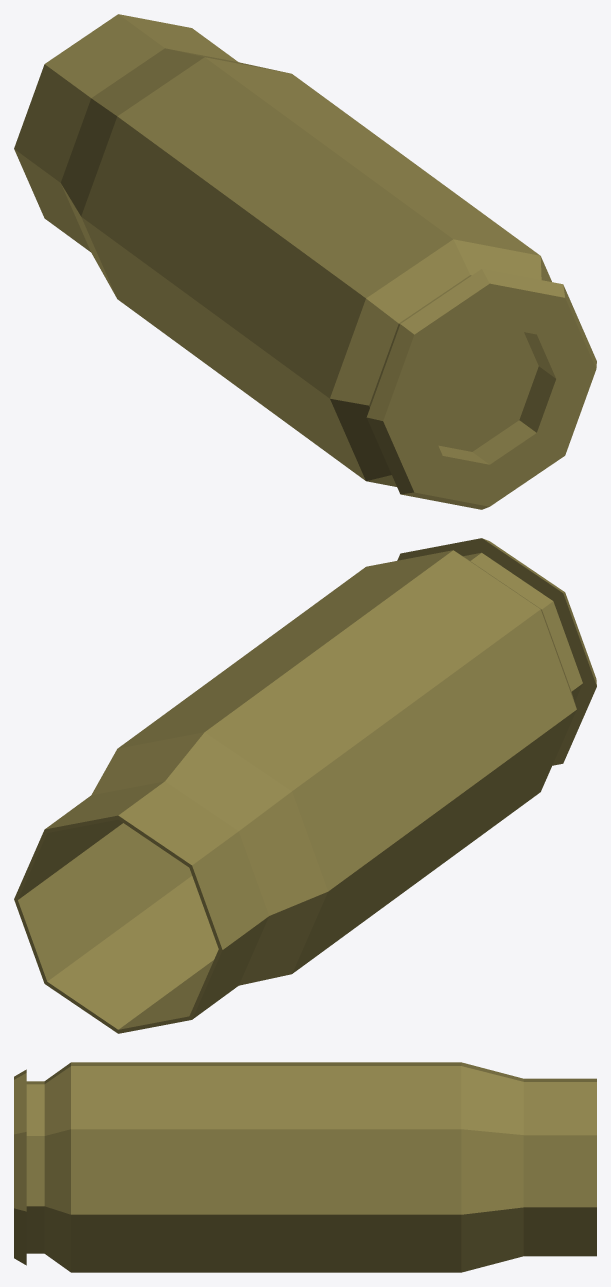
The model's file is case.glb.
3 renders of one model, top to bottom at view 1: azimuth 30°, elevation 25°; view 2: azimuth 150°, elevation 25°; view 3: azimuth 270°, elevation 25°, orthographic. The views are drawn at different scales.
Visible parts, largest first — view 1: 792x33-kurz-case; view 2: 792x33-kurz-case; view 3: 792x33-kurz-case.
Boxes of the visible parts, x1,y1,x2,y2 form: 792x33-kurz-case: [14, 14, 596, 509]; 792x33-kurz-case: [14, 538, 596, 1033]; 792x33-kurz-case: [14, 1062, 596, 1272].
Bounding box in the file's own units: 0.0121 × 0.0121 × 0.0316.
